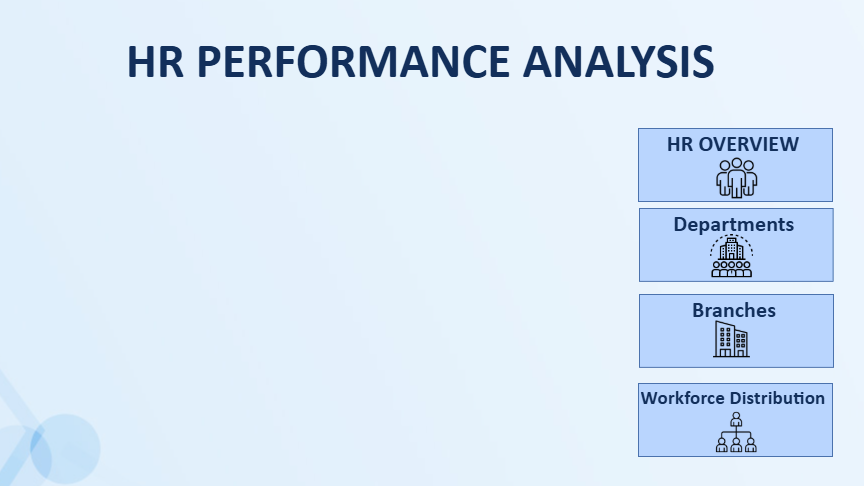

This screenshot's page, from the dashboard's own definition file:
{"tool":"powerbi","page":{"name":"HOME PAGE","canvas":[1280,720],"ordinal":0},"visuals":[{"type":"shape","box":[20.2,0,1190.9,193],"z":0},{"type":"group","id":"g1","title":"Group 1","box":[930.2,432,280.8,106],"z":1000},{"type":"group","id":"g2","title":"Group 2","box":[928.8,192.5,280.8,106.6],"z":2000},{"type":"shape","box":[928.8,192.5,280.8,106.6],"z":2000,"group":"g2"},{"type":"shape","box":[928.8,560.2,280.8,106.6],"z":2000,"group":"g4"},{"type":"group","id":"g3","title":"Group 3","box":[930.2,308.2,279.4,106.6],"z":3000},{"type":"shape","box":[930.2,308.2,280,106],"z":3000,"group":"g3"},{"type":"image","box":[1006.6,229.9,128.2,69.1],"z":4000,"group":"g2"},{"type":"shape","box":[930.2,432,280.8,106],"z":4000,"group":"g1"},{"type":"group","id":"g4","title":"Group 2","box":[928.8,560.2,280.8,106.6],"z":4000},{"type":"image","box":[993.4,340.4,140.7,73.8],"z":5000,"group":"g3"},{"type":"image","box":[917.3,594.7,306.7,72],"z":5000},{"type":"image","box":[938.8,465.3,249.1,63.4],"z":5002,"group":"g1"}]}

Visuals, with their boxes in screenshot pixels (x1, y1, x2, y2), scaled from the page's 1280x720 canvas onto the 864x486 screenshot:
shape: bbox=[14, 0, 817, 130]
"Group 1" group: bbox=[628, 292, 817, 363]
"Group 2" group: bbox=[627, 130, 816, 202]
shape: bbox=[627, 130, 816, 202]
shape: bbox=[627, 378, 816, 450]
"Group 3" group: bbox=[628, 208, 816, 280]
shape: bbox=[628, 208, 817, 280]
image: bbox=[679, 155, 766, 202]
shape: bbox=[628, 292, 817, 363]
"Group 2" group: bbox=[627, 378, 816, 450]
image: bbox=[671, 230, 766, 280]
image: bbox=[619, 401, 826, 450]
image: bbox=[634, 314, 802, 357]
